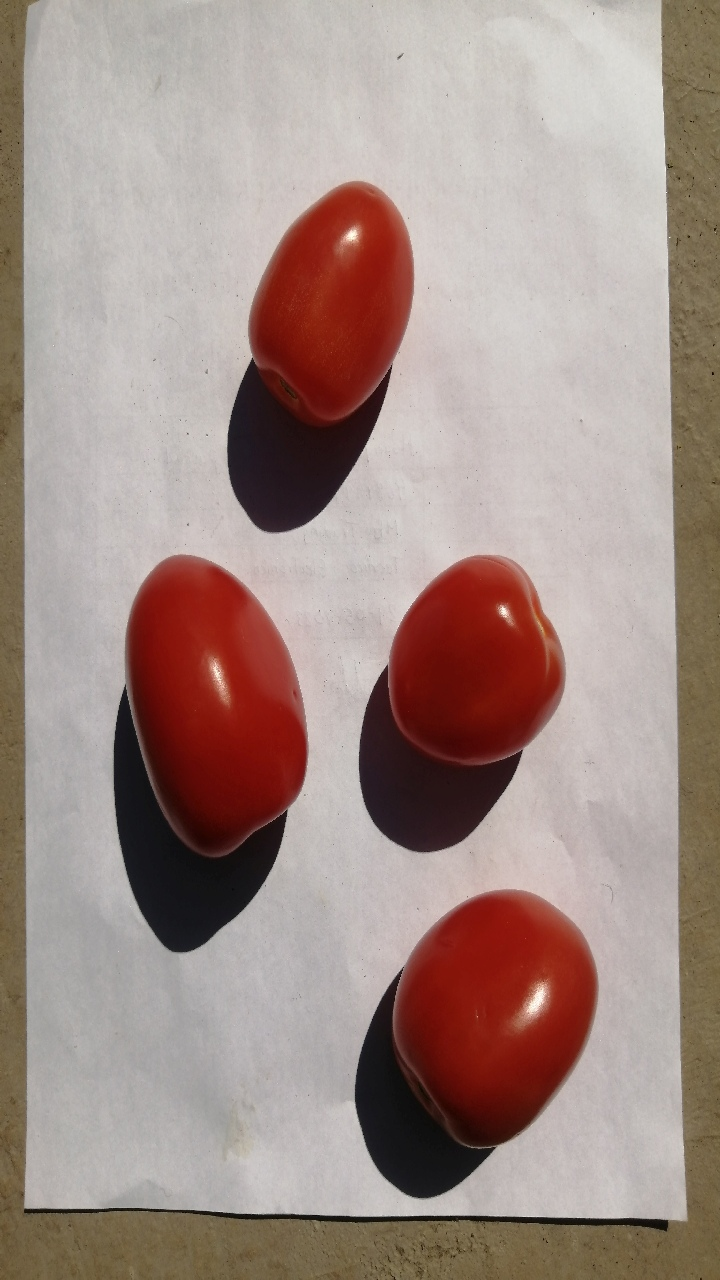tomateRojo: (97, 519, 331, 869), (378, 855, 594, 1162), (346, 514, 589, 785), (228, 154, 421, 435)
